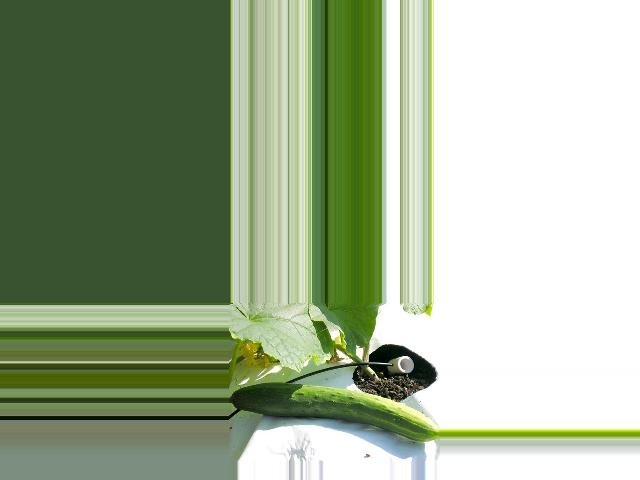cucumber: (229, 383, 441, 442)
